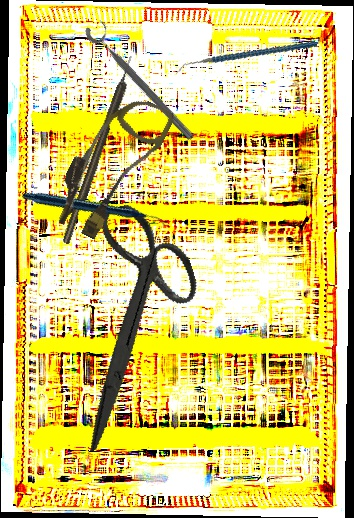Cannula: (45, 82, 177, 249)
Chopper: (176, 18, 318, 98)
Fixation Ring: (81, 15, 204, 145)
Handpiece: (20, 137, 167, 284)
Hook Surgical: (60, 55, 138, 245)
Iris Scissors: (21, 191, 237, 452)
